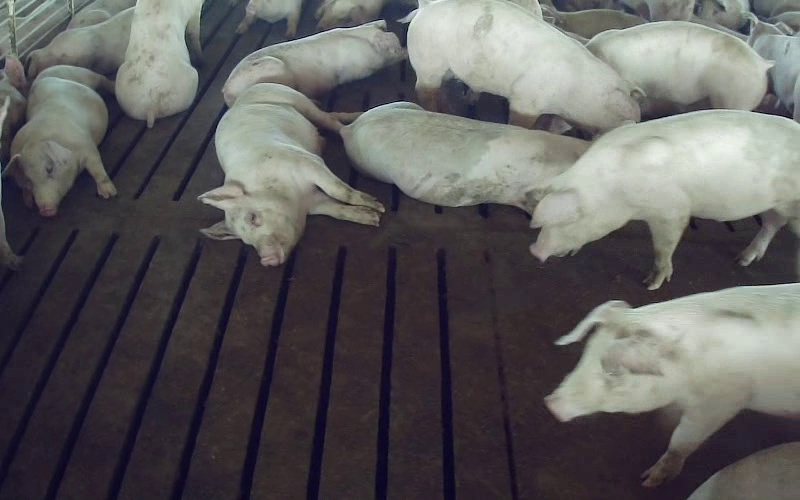pig: (545, 283, 799, 485), (198, 83, 383, 265), (407, 0, 641, 131), (340, 102, 588, 212), (586, 21, 772, 118), (6, 65, 116, 216), (222, 20, 406, 106)
